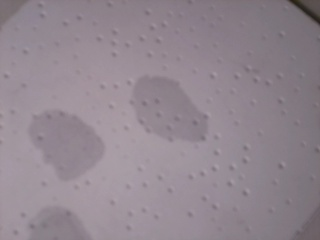Water_detected: (130, 78, 188, 134), (31, 124, 85, 164), (43, 204, 86, 240)
